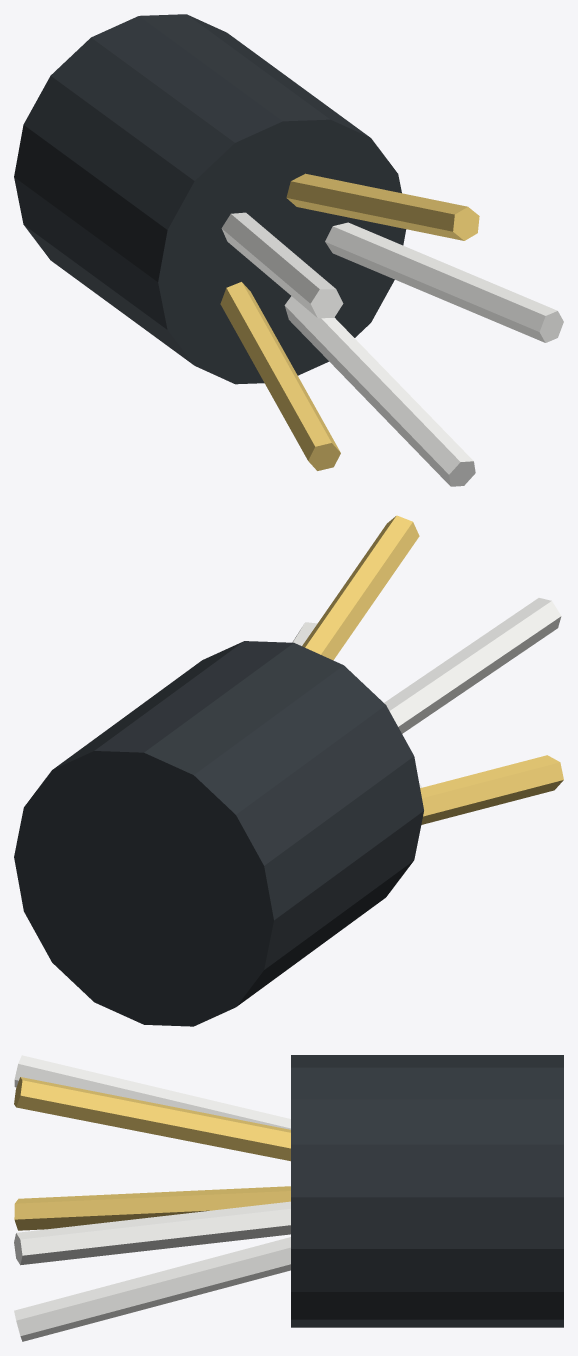
The model's file is PEN_HOLDER_001.glb.
3 views of the same model, one above another, from view 1: azimuth 30°, elevation 25°; view 2: azimuth 150°, elevation 25°; view 3: azimuth 270°, elevation 25° (orthographic). The views are drawn at different scales.
Parts seen in each view (by area): view 1: cup_000, pen_001, pen_005, pen_004, pen_002, pen_003; view 2: cup_000, pen_003, pen_002, pen_004; view 3: cup_000, pen_005, pen_001, pen_002, pen_004, pen_003.
Part boxes in pixels (bbox=[...]): cup_000: bbox=[14, 14, 406, 384]; pen_001: bbox=[325, 222, 563, 342]; pen_005: bbox=[284, 296, 475, 486]; pen_004: bbox=[220, 282, 340, 470]; pen_002: bbox=[286, 173, 479, 240]; pen_003: bbox=[221, 212, 343, 318]; cup_000: bbox=[14, 641, 423, 1026]; pen_003: bbox=[384, 598, 561, 733]; pen_002: bbox=[302, 515, 419, 660]; pen_004: bbox=[420, 755, 563, 824]; cup_000: bbox=[291, 1055, 563, 1327]; pen_005: bbox=[14, 1237, 290, 1341]; pen_001: bbox=[14, 1201, 290, 1265]; pen_002: bbox=[14, 1077, 290, 1161]; pen_004: bbox=[14, 1186, 290, 1230]; pen_003: bbox=[14, 1055, 290, 1129].
Bounding box in the file's own units: 0.1058 × 0.1065 × 0.2016.
